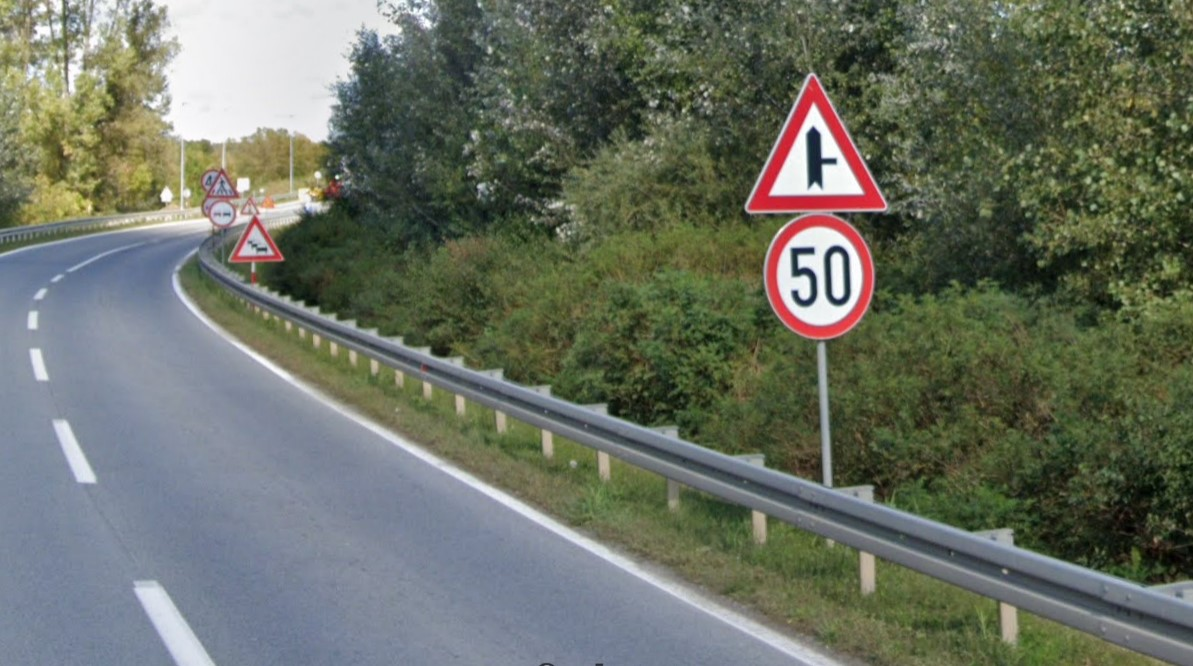Ograničenje brzine 50: (763, 212, 875, 342)
Približavanje pješačkom prijelazu: (207, 169, 238, 198)
Zabrana pretjecanja: (208, 200, 236, 227)
